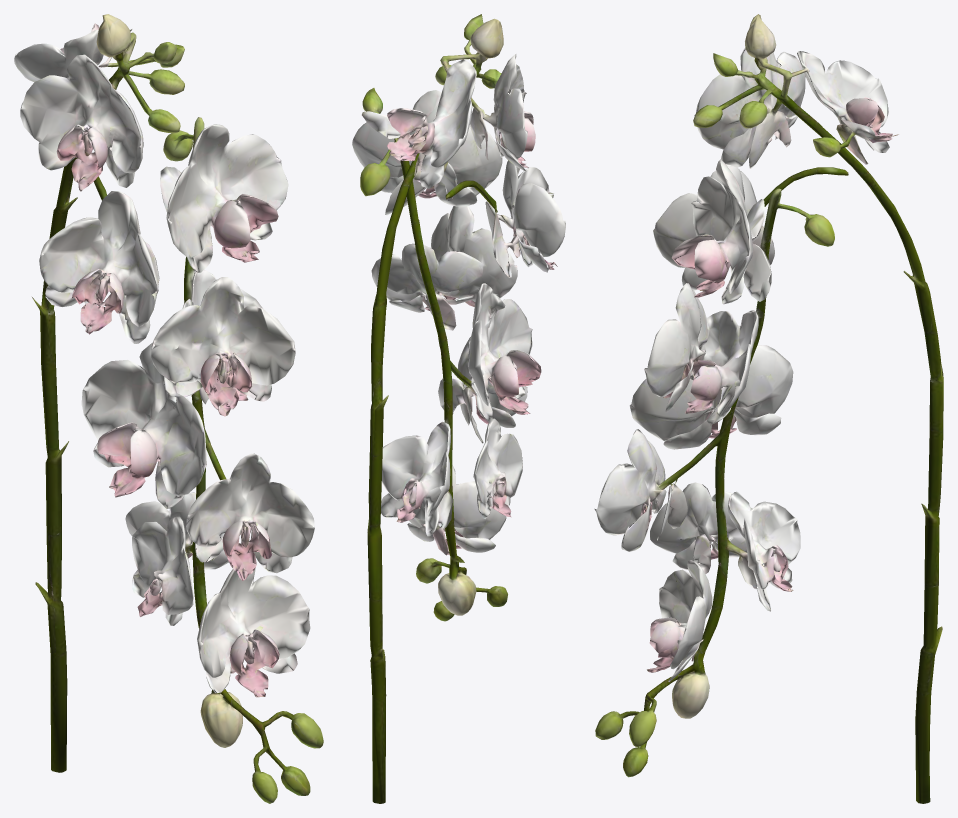
File: white_phala.glb
3 views of the same model, side by side, from view 1: azimuth 30°, elevation 25°; view 2: azimuth 150°, elevation 25°; view 3: azimuth 270°, elevation 25° (orthographic). The views are drawn at different scales.
Size of the model in its own units: 0.5824 by 1.9 by 0.784.
1 material, 1 textured.
